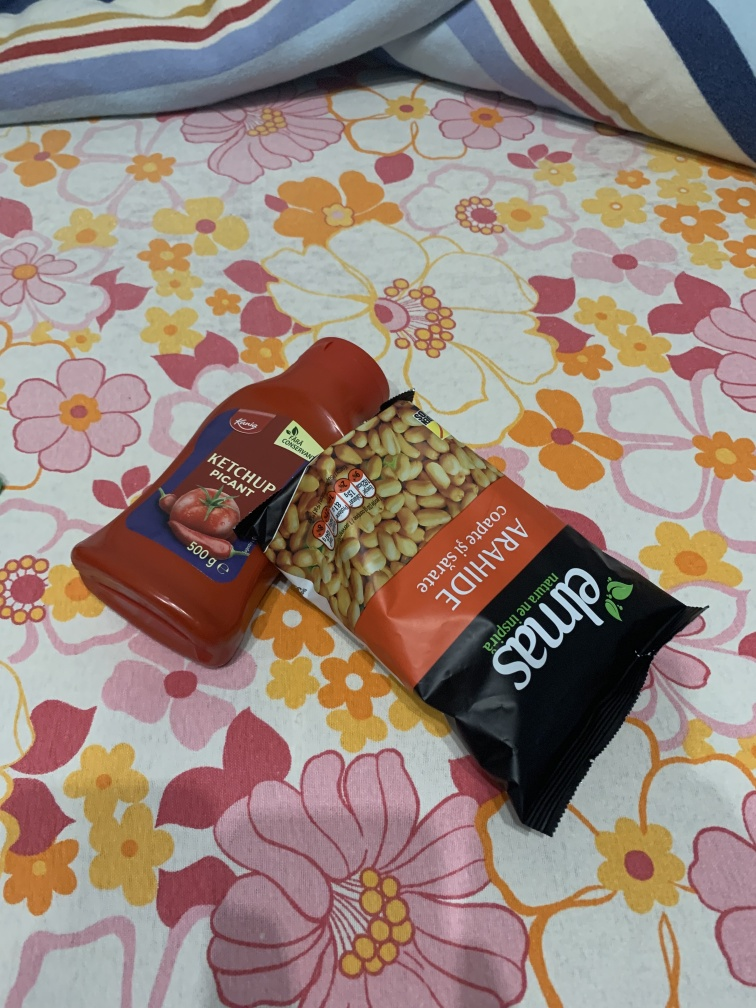ketchup: (70, 330, 391, 662)
peanuts: (237, 379, 712, 852)
